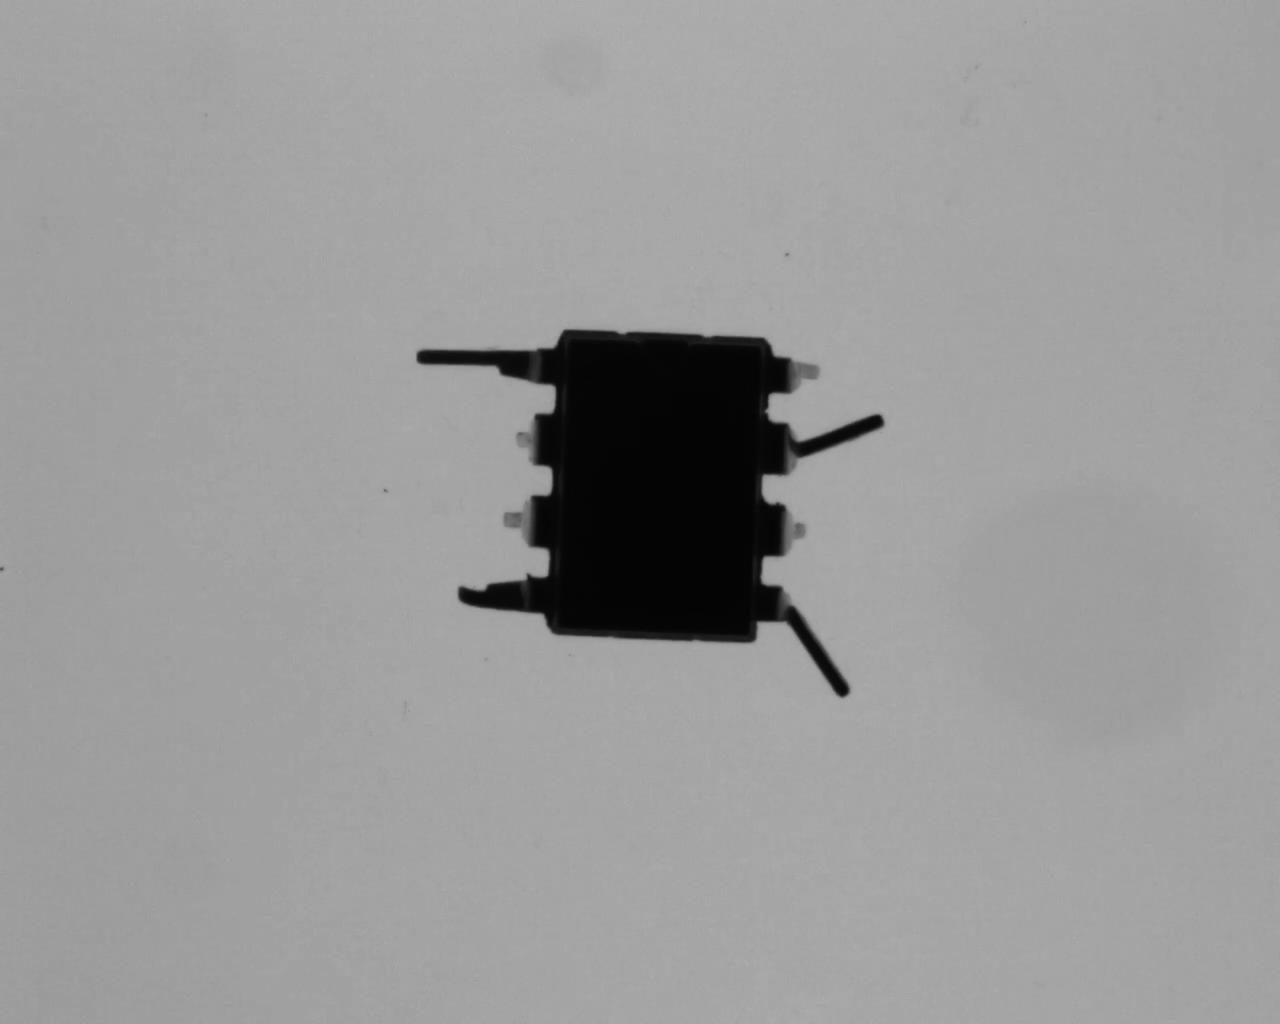Leg: (753, 584, 876, 700), (754, 401, 887, 470), (400, 342, 562, 386), (422, 575, 556, 620), (492, 483, 551, 549), (750, 349, 836, 392), (499, 410, 556, 464), (765, 491, 810, 559)
